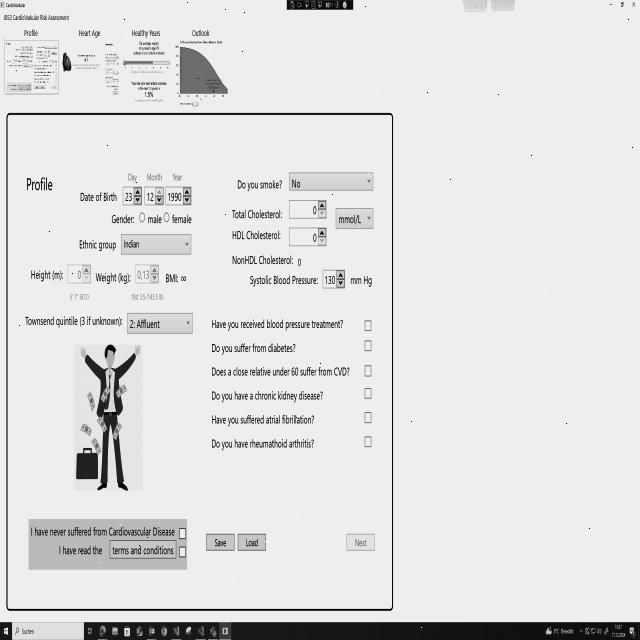button: (107, 539, 177, 564), (344, 527, 377, 556), (236, 529, 270, 555), (204, 530, 235, 555), (627, 0, 640, 13), (616, 0, 627, 13), (606, 0, 616, 12)
checkbox: (363, 433, 373, 452), (363, 317, 373, 333), (363, 339, 373, 353), (179, 546, 189, 560), (364, 363, 373, 378), (364, 386, 373, 401), (178, 527, 187, 542), (364, 409, 372, 425)
dropdownMenu: (287, 167, 377, 195), (119, 230, 195, 256), (125, 310, 196, 335), (334, 204, 376, 232)
input: (12, 621, 84, 640)
label: (208, 364, 354, 383), (28, 520, 177, 538), (208, 316, 344, 334), (20, 311, 124, 331), (208, 388, 330, 404), (208, 412, 319, 429), (209, 436, 319, 452), (209, 339, 301, 358), (75, 230, 119, 258), (230, 204, 283, 225), (246, 271, 319, 286), (228, 254, 304, 268), (230, 175, 285, 194), (24, 172, 63, 198), (77, 184, 119, 208), (52, 542, 106, 560), (230, 226, 284, 242), (123, 290, 170, 308), (350, 271, 380, 295), (95, 266, 131, 285), (28, 266, 66, 284), (166, 268, 196, 288), (2, 14, 72, 22), (129, 25, 164, 40), (107, 212, 137, 227), (171, 209, 194, 228), (63, 290, 96, 302), (186, 26, 216, 38), (77, 27, 103, 40), (144, 169, 166, 183), (147, 211, 162, 230), (170, 168, 184, 184), (125, 166, 136, 185), (22, 28, 42, 37)
radio: (138, 210, 146, 223), (163, 209, 170, 223)
upDown: (286, 195, 328, 221), (288, 225, 328, 251), (134, 262, 162, 288), (66, 262, 92, 286), (322, 267, 346, 292), (165, 185, 192, 207), (121, 186, 143, 207), (144, 185, 164, 207)
